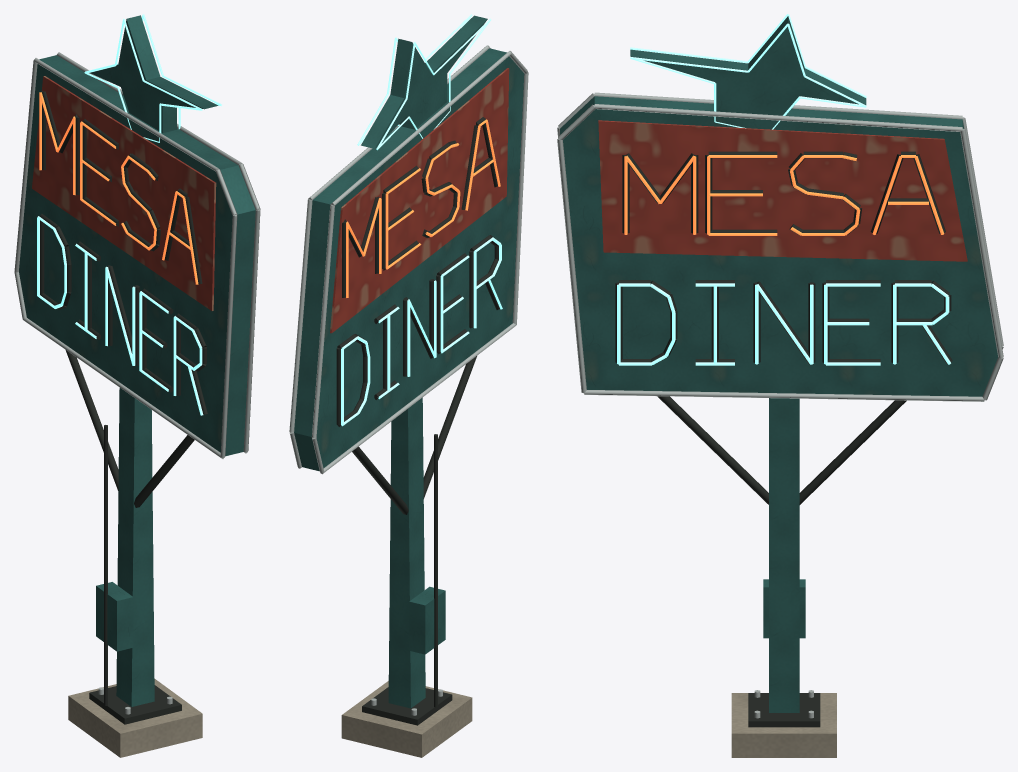
The model's file is SM_Mesa_Sign_LOD2.fbx.
The picture shows the model from 3 angles, left to right: view 1: azimuth 30°, elevation 25°; view 2: azimuth 150°, elevation 25°; view 3: azimuth 270°, elevation 25°; orthographic projection. The views are drawn at different scales.
Parts seen in each view (by area): view 1: SM_Mesa_Sign_LOD2; view 2: SM_Mesa_Sign_LOD2; view 3: SM_Mesa_Sign_LOD2.
Part boxes in pixels (x1,y1,x2,y2): SM_Mesa_Sign_LOD2: (14,14,260,757); SM_Mesa_Sign_LOD2: (289,14,528,757); SM_Mesa_Sign_LOD2: (557,14,1003,757).
Size of the model in its own units: 0.75 by 3.48 by 6.19.
